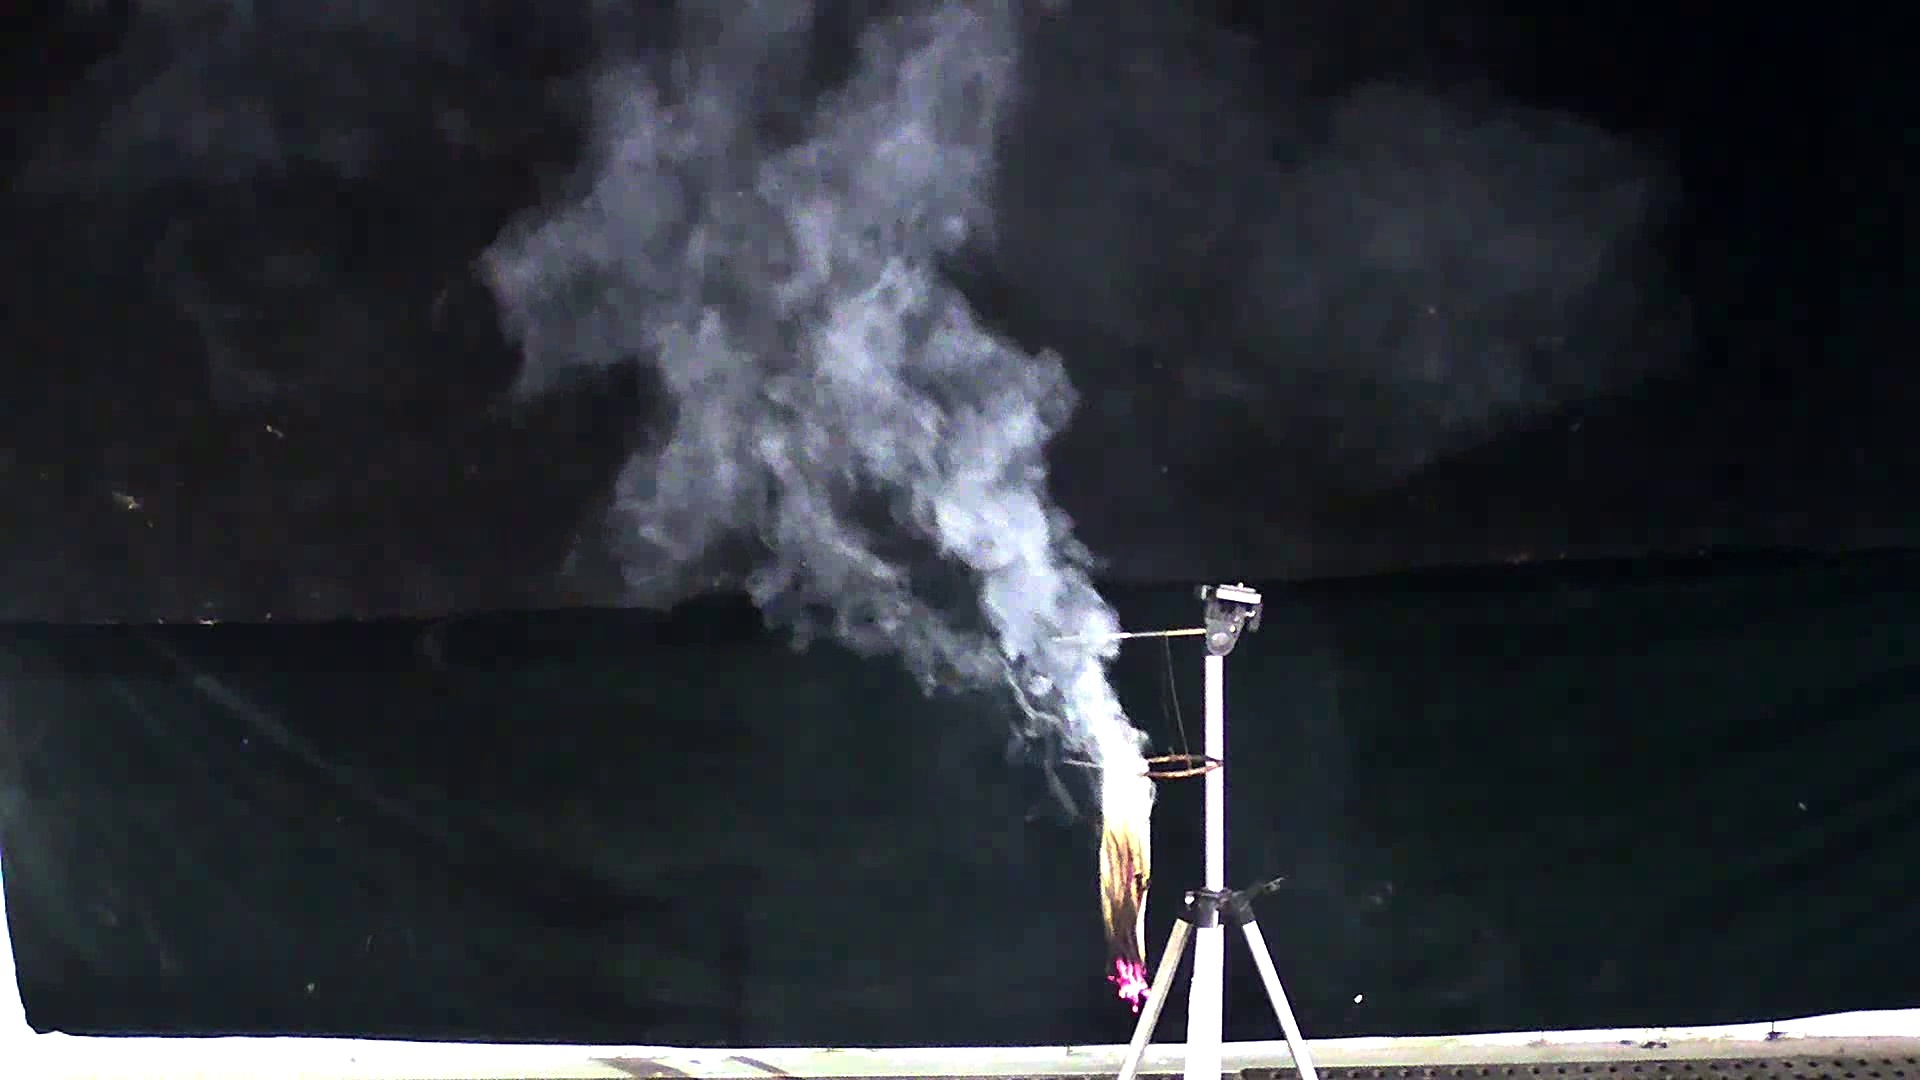smoke: (440, 18, 1163, 824)
